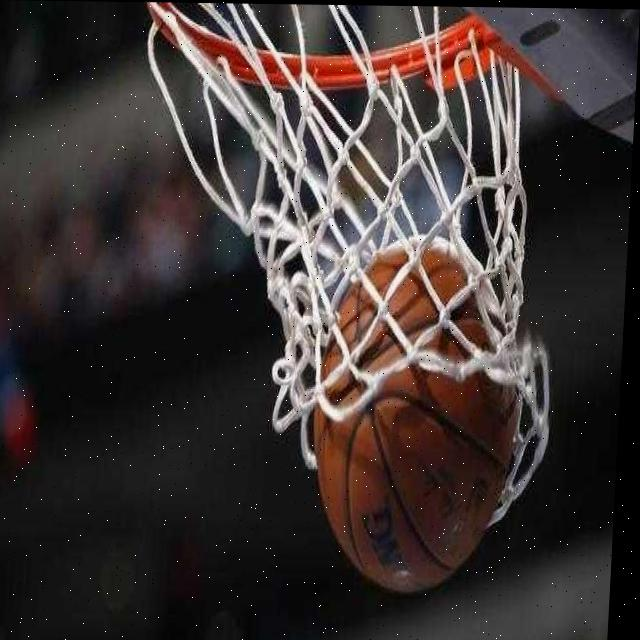Goal: (304, 234, 526, 588)
